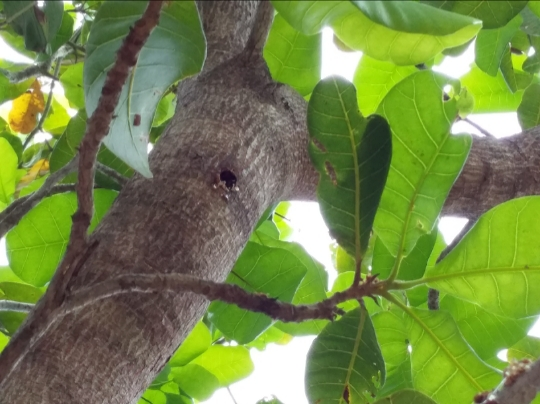Apate terebrans: (205, 160, 256, 204)
